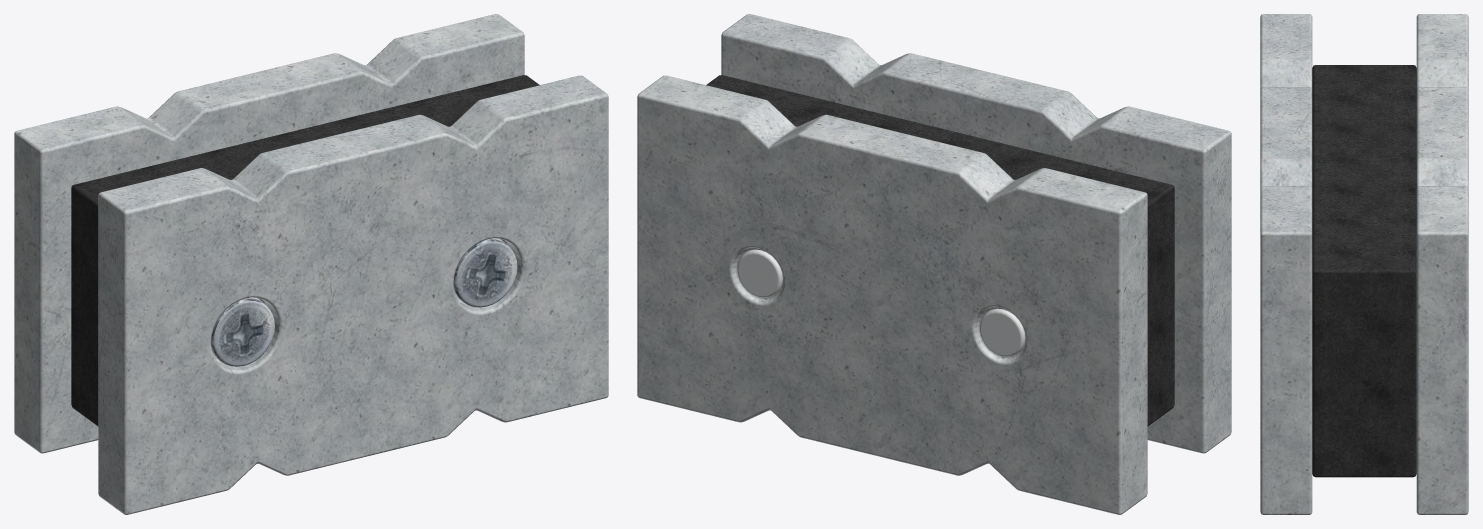
3 renders of one model, left to right at view 1: azimuth 30°, elevation 25°; view 2: azimuth 150°, elevation 25°; view 3: azimuth 270°, elevation 25°, orthographic. The views are drawn at different scales.
Visible parts, largest first — view 1: TOMOUH_rectangular_magnet; view 2: TOMOUH_rectangular_magnet; view 3: TOMOUH_rectangular_magnet.
Part boxes in pixels (left/top/right/bottom): TOMOUH_rectangular_magnet: left=14, top=14, right=608, bottom=514; TOMOUH_rectangular_magnet: left=637, top=14, right=1231, bottom=514; TOMOUH_rectangular_magnet: left=1260, top=14, right=1468, bottom=514.
Bounding box in the file's own units: 0.05 × 0.03 × 0.02.
Materials: 1 (1 with a texture image).
